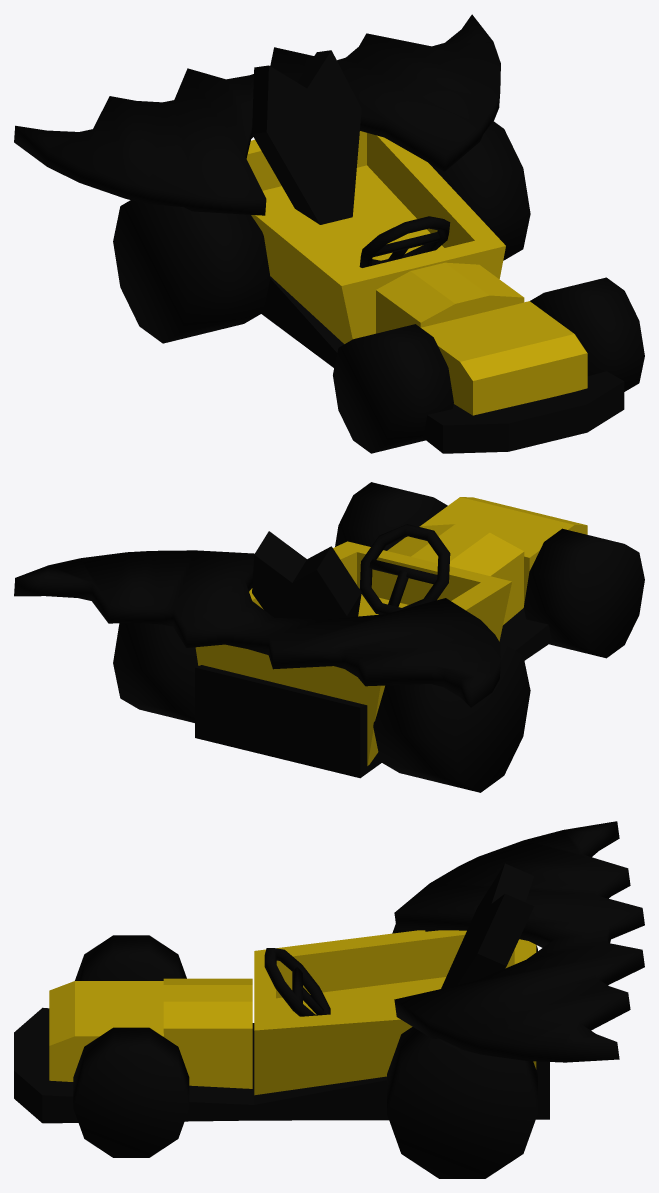
Rendered from カート.fbx.
The picture shows the model from 3 angles, top to bottom: view 1: azimuth 30°, elevation 25°; view 2: azimuth 150°, elevation 25°; view 3: azimuth 270°, elevation 25°; orthographic projection.
Visible parts, largest first — view 1: Cylinder.009; view 2: Cylinder.009; view 3: Cylinder.009.
Part boxes in pixels (left/top/right/bottom): Cylinder.009: left=14, top=14, right=644, bottom=453; Cylinder.009: left=14, top=482, right=644, bottom=792; Cylinder.009: left=14, top=821, right=644, bottom=1178.
Size of the model in its own units: 1.89 by 0.8708 by 2.28.
